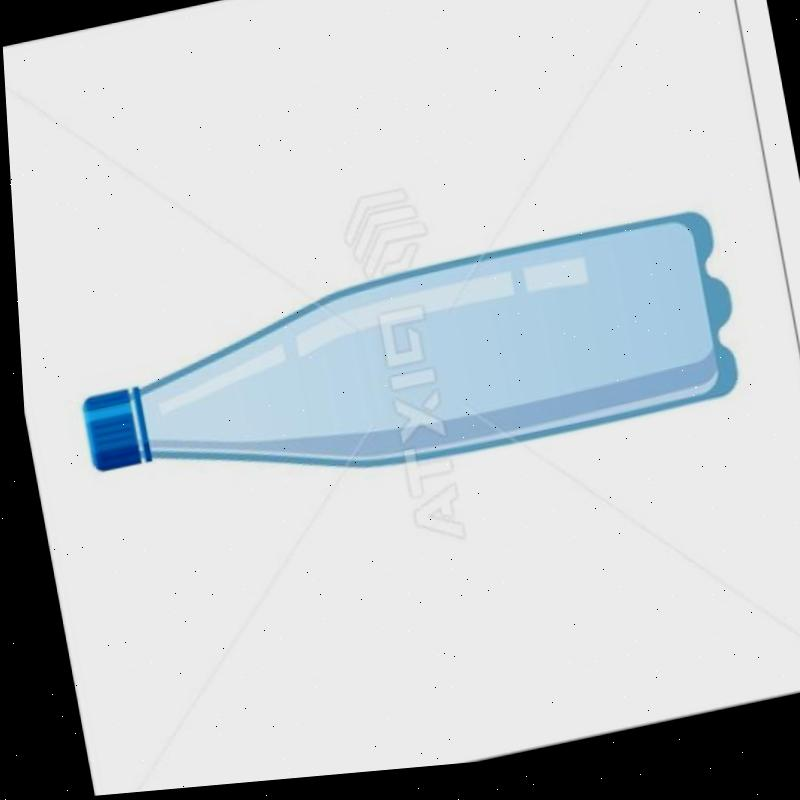botella: (62, 214, 744, 537)
